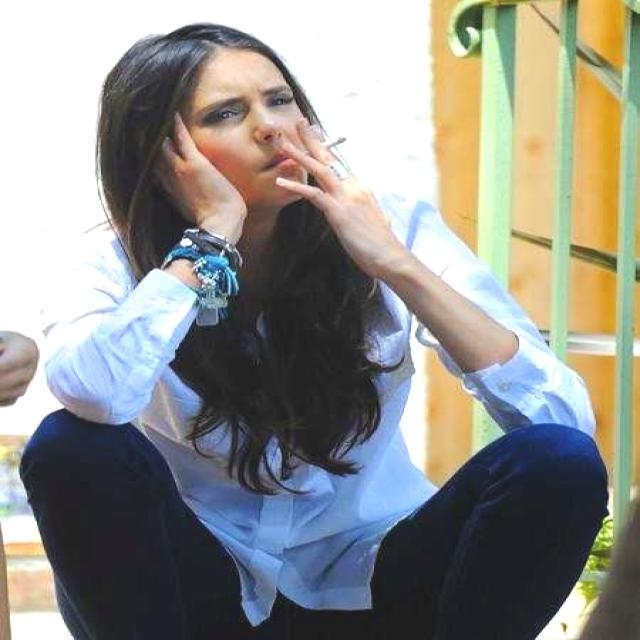Smooking: (308, 130, 361, 159)
